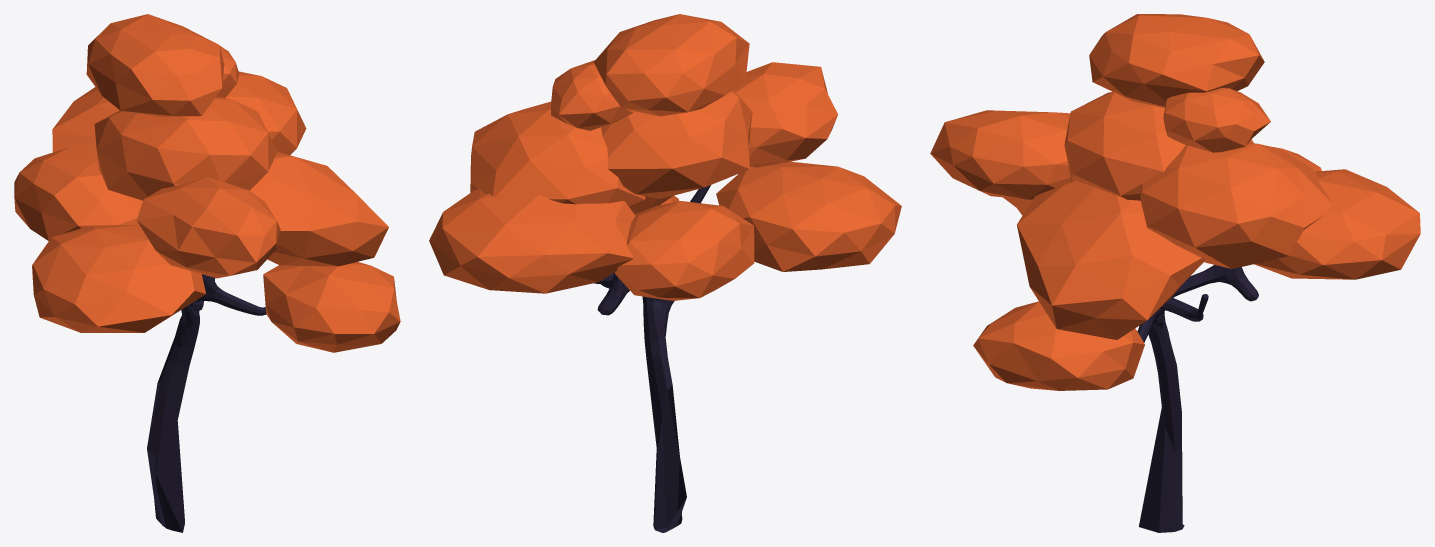
File: env_tree_type3.fbx
3 renders of one model, left to right at view 1: azimuth 30°, elevation 25°; view 2: azimuth 150°, elevation 25°; view 3: azimuth 270°, elevation 25°, orthographic. The views are drawn at different scales.
Parts seen in each view (by area): view 1: leaves 3, trunk 3; view 2: leaves 3, trunk 3; view 3: leaves 3, trunk 3.
Boxes of the visible parts, x1,y1,x2,y2 form: leaves 3: (14, 14, 400, 352); trunk 3: (147, 274, 266, 532); leaves 3: (429, 14, 901, 300); trunk 3: (594, 185, 710, 532); leaves 3: (930, 14, 1420, 390); trunk 3: (1137, 265, 1258, 532).
Size of the model in its own units: 7977 by 10942 by 9743.
